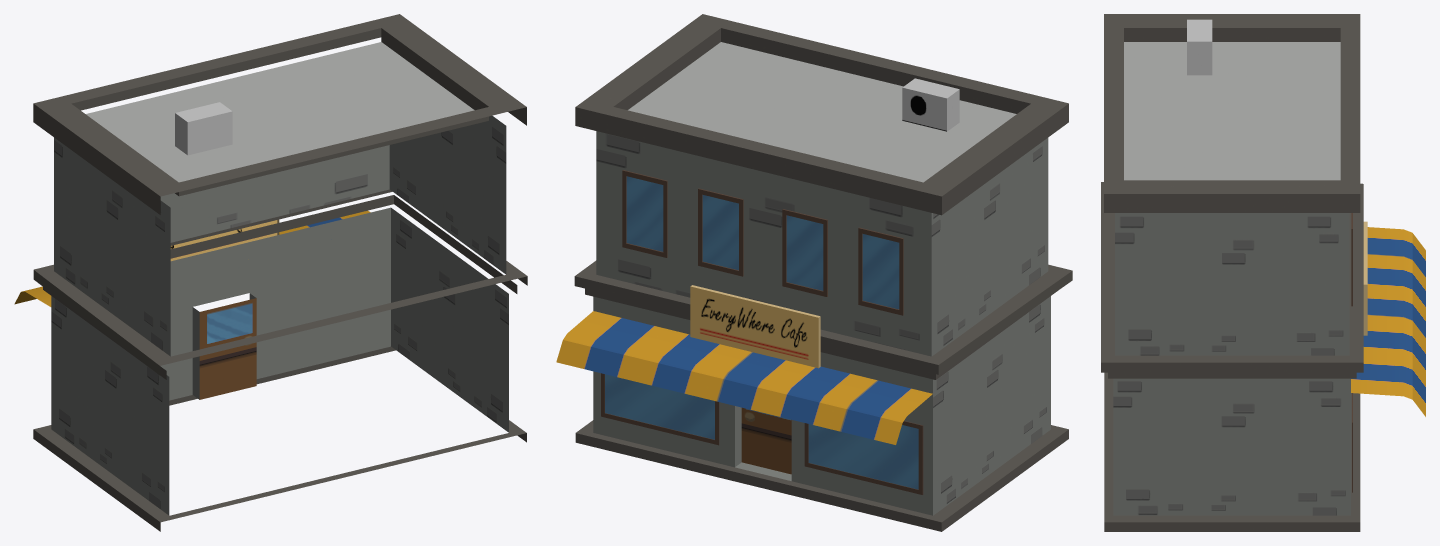
The model's file is cafe.fbx.
3 views of the same model, side by side, from view 1: azimuth 30°, elevation 25°; view 2: azimuth 150°, elevation 25°; view 3: azimuth 270°, elevation 25° (orthographic).
Visible parts, largest first — view 1: Box003; view 2: Box003, Box005; view 3: Box003.
Part boxes in pixels (bbox=[...]): Box003: bbox=[14, 14, 527, 531]; Box003: bbox=[556, 14, 1072, 531]; Box005: bbox=[601, 170, 923, 494]; Box003: bbox=[1101, 14, 1425, 531].
Bounding box in the file's own units: 7.92 × 7.46 × 6.01.
